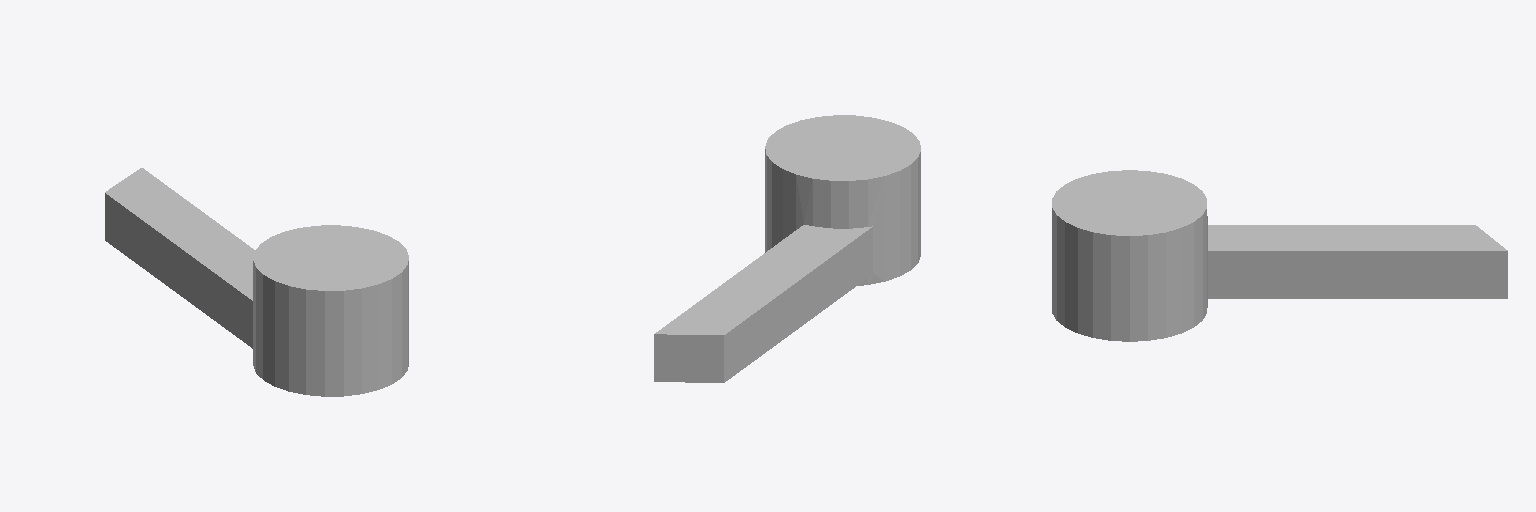
The model's file is R_THIGH_C.obj.
The picture shows the model from 3 angles: view 1: azimuth 30°, elevation 25°; view 2: azimuth 150°, elevation 25°; view 3: azimuth 270°, elevation 25°; orthographic projection.
Parts seen in each view (by area): view 1: default; view 2: default; view 3: default.
Boxes of the visible parts, box(x1,y1,x2,y2) form: default: box(105, 168, 408, 396); default: box(654, 115, 920, 382); default: box(1052, 170, 1507, 341).
Bounding box in the file's own units: 0.11 × 0.082 × 0.3206.